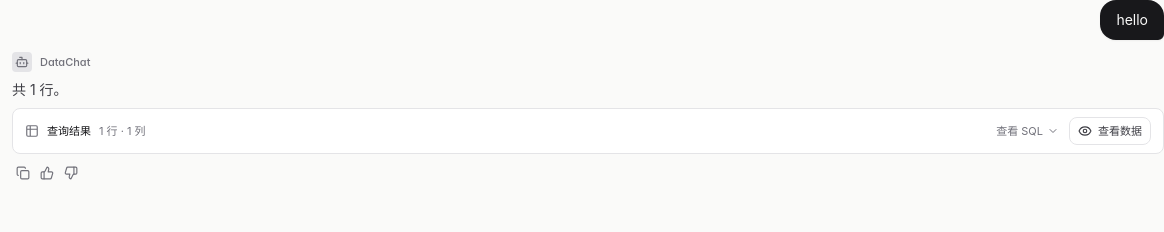
it: MessageItem › shows a result without a recorded statement as a result card
Expected: the text "查询结果" is shown, [47,123,91,139]
Expected: the text "1 行 · 1 列" is shown, [99,123,146,139]
Click the button "查看 SQL" at (1028, 131), box [990,119,1065,143]
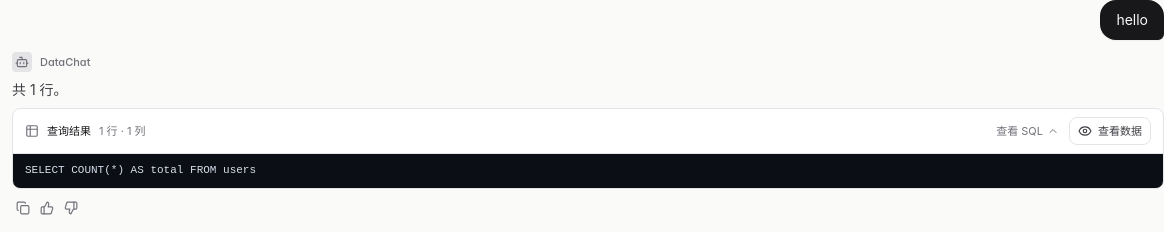
Result: the text "SELECT COUNT(*) AS total FROM users" is shown at [25,164,256,176]
